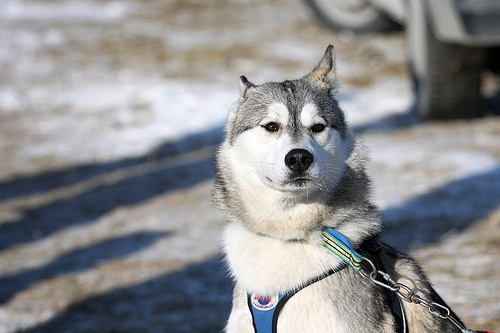dog: (205, 42, 471, 332)
